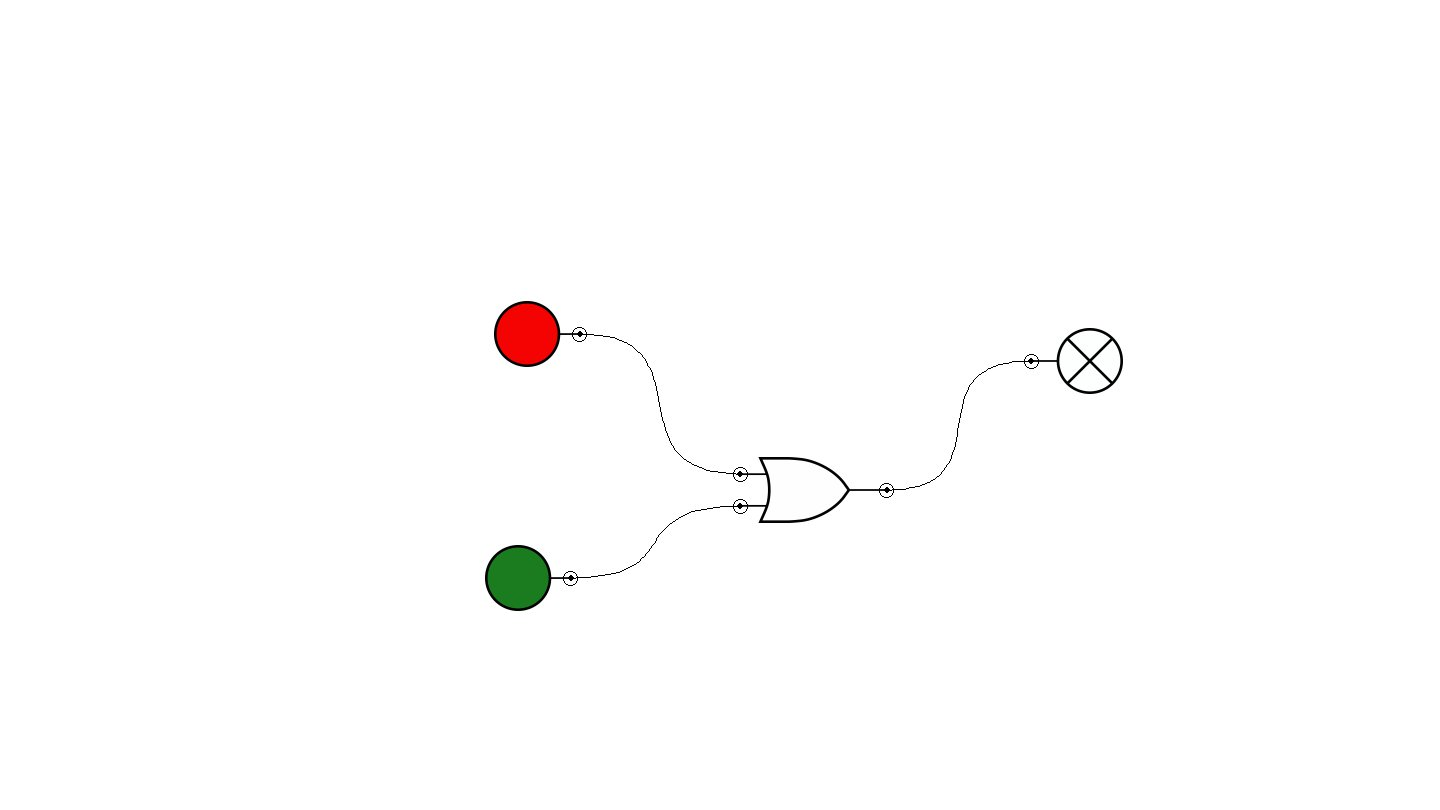bulb: (1024, 328, 1123, 394)
or: (733, 457, 894, 523)
switch_False: (494, 301, 587, 367)
switch_True: (485, 545, 578, 611)
